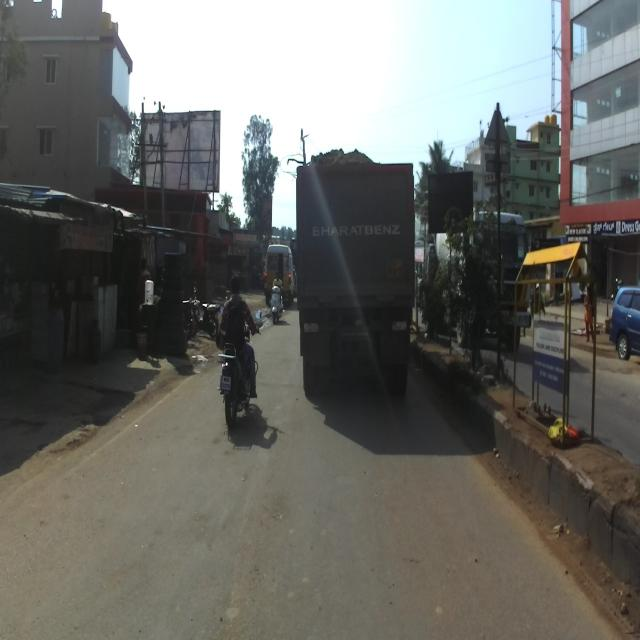motorcycle: (217, 309, 262, 429)
truck: (296, 146, 416, 398)
